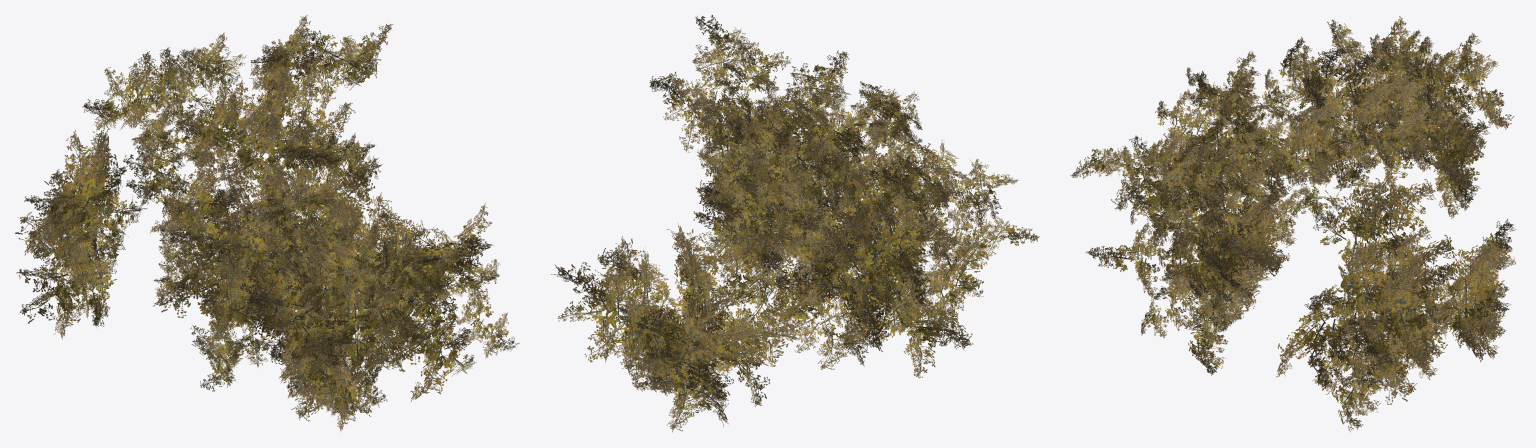
The model's file is early_autumn.glb.
3 views of the same model, side by side, from view 1: azimuth 30°, elevation 25°; view 2: azimuth 150°, elevation 25°; view 3: azimuth 270°, elevation 25° (orthographic). The views are drawn at different scales.
Visible parts, largest first — view 1: Large_oak_tree_002_LOD0.004_Cluster_Mat Early autumn EX_0; view 2: Large_oak_tree_002_LOD0.004_Cluster_Mat Early autumn EX_0; view 3: Large_oak_tree_002_LOD0.004_Cluster_Mat Early autumn EX_0.
Part boxes in pixels (x1=…): Large_oak_tree_002_LOD0.004_Cluster_Mat Early autumn EX_0: x1=15, y1=15, x2=519, y2=431; Large_oak_tree_002_LOD0.004_Cluster_Mat Early autumn EX_0: x1=551, y1=15, x2=1039, y2=432; Large_oak_tree_002_LOD0.004_Cluster_Mat Early autumn EX_0: x1=1070, y1=16, x2=1516, y2=431.
Size of the model in its own units: 24.51 by 22.78 by 24.98.
1 material, 1 textured.
